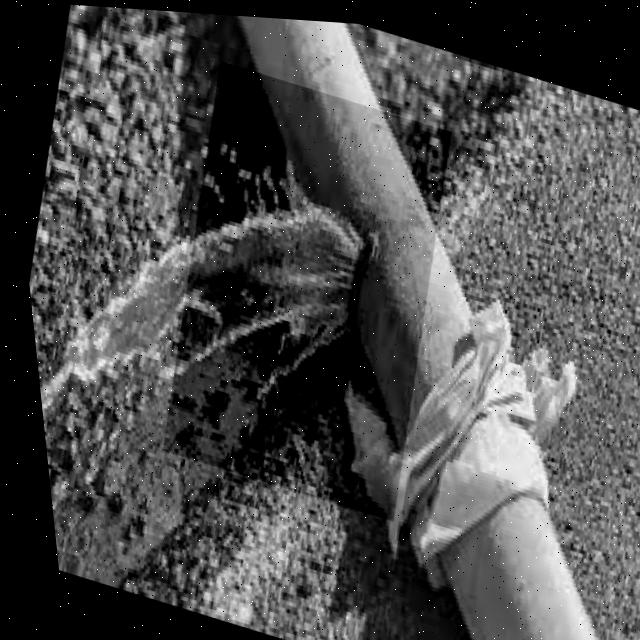corrosion: (102, 50, 480, 457)
